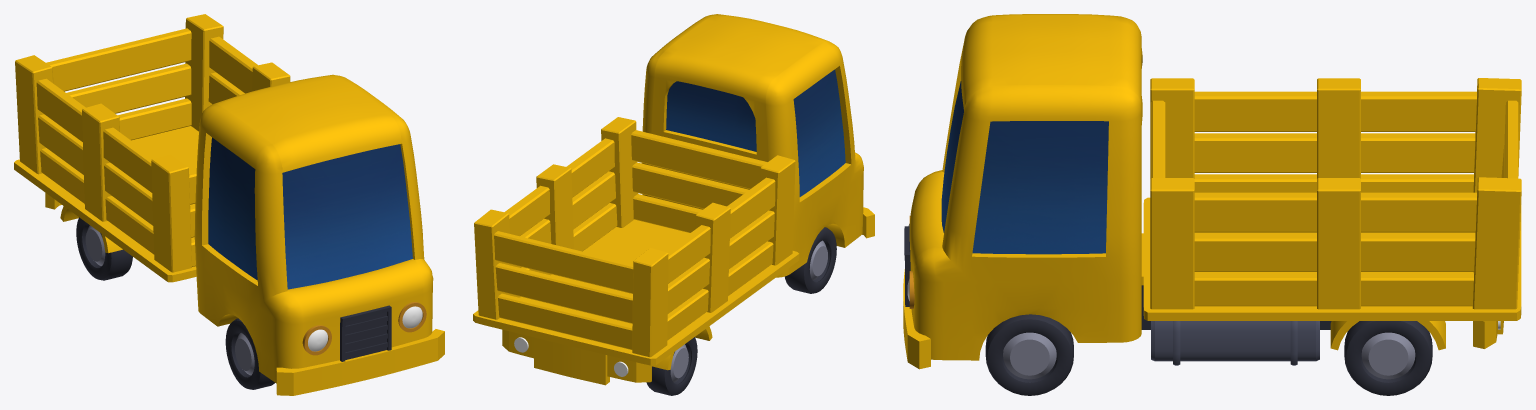
Rendered from Car_6.fbx.
3 renders of one model, left to right at view 1: azimuth 30°, elevation 25°; view 2: azimuth 150°, elevation 25°; view 3: azimuth 270°, elevation 25°, orthographic. The views are drawn at different scales.
Visible parts, largest first — view 1: Cube.001; view 2: Cube.001; view 3: Cube.001.
Boxes of the visible parts, x1=… form: Cube.001: x1=14, y1=14, x2=444, y2=395; Cube.001: x1=473, y1=14, x2=874, y2=395; Cube.001: x1=903, y1=14, x2=1521, y2=395.
Size of the model in its own units: 495 by 624 by 1126.
Materials: 1 (1 with a texture image).
